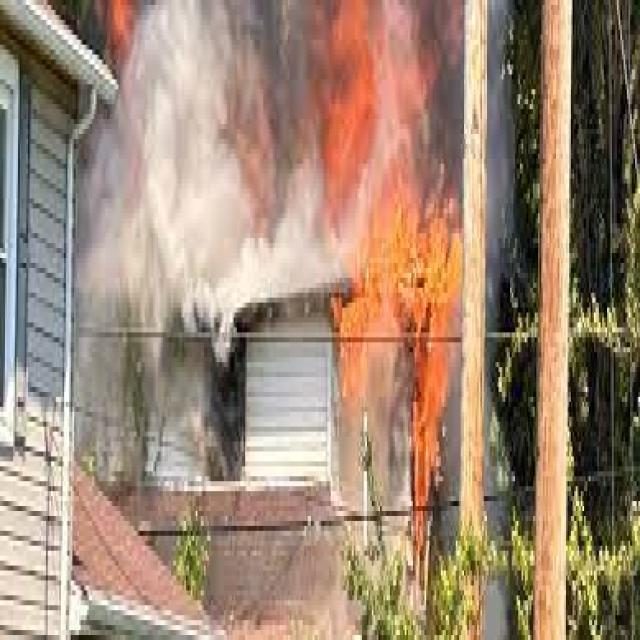Fire: (342, 24, 462, 502)
Smoke: (111, 8, 337, 312)
